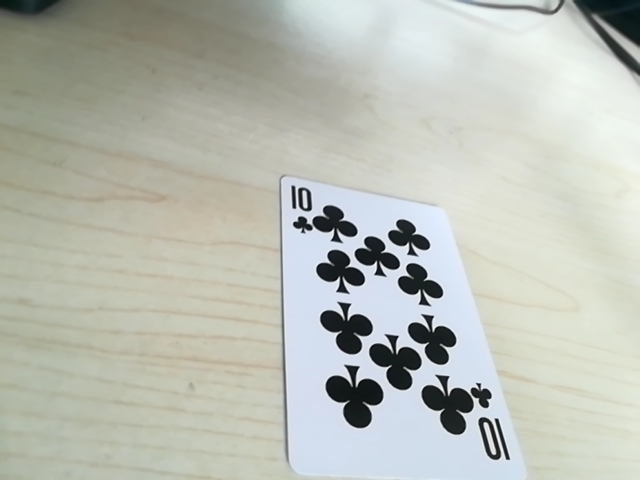mh 10: (470, 391, 506, 468), (284, 180, 328, 241)
